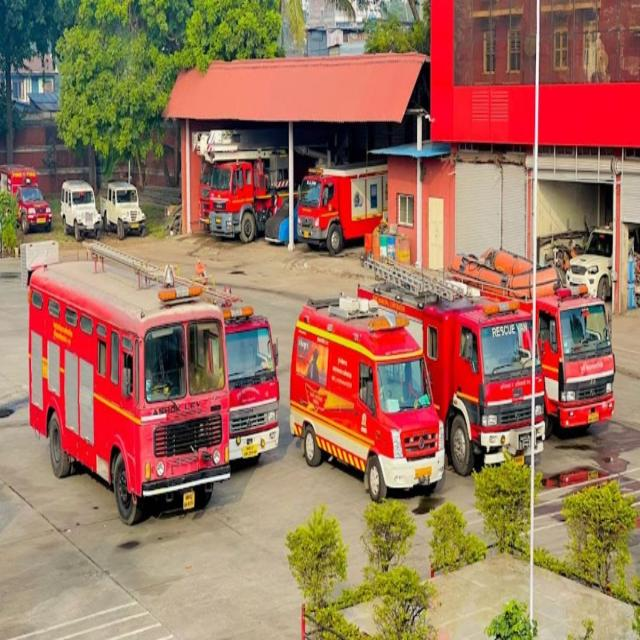car: (566, 227, 612, 298), (100, 182, 145, 241), (61, 180, 101, 241)
emergency: (28, 243, 230, 524), (358, 256, 532, 475), (291, 295, 444, 499), (451, 247, 615, 428), (196, 263, 279, 461), (194, 130, 288, 243), (296, 164, 388, 254), (0, 164, 52, 234)
